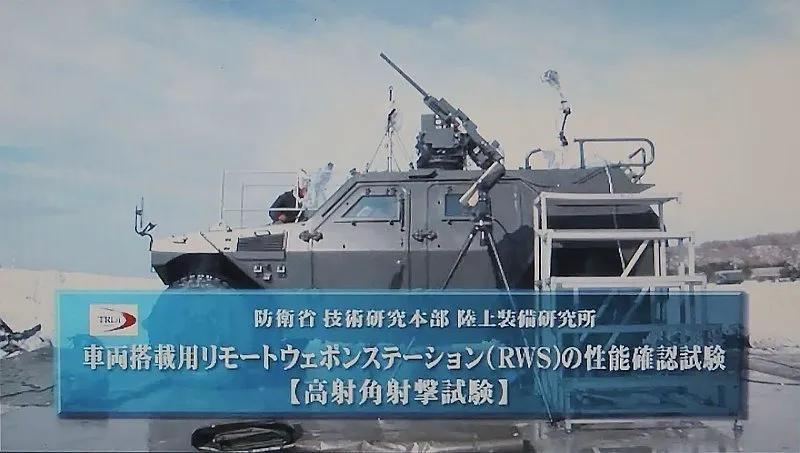MIL_IFV: (153, 51, 661, 291)
